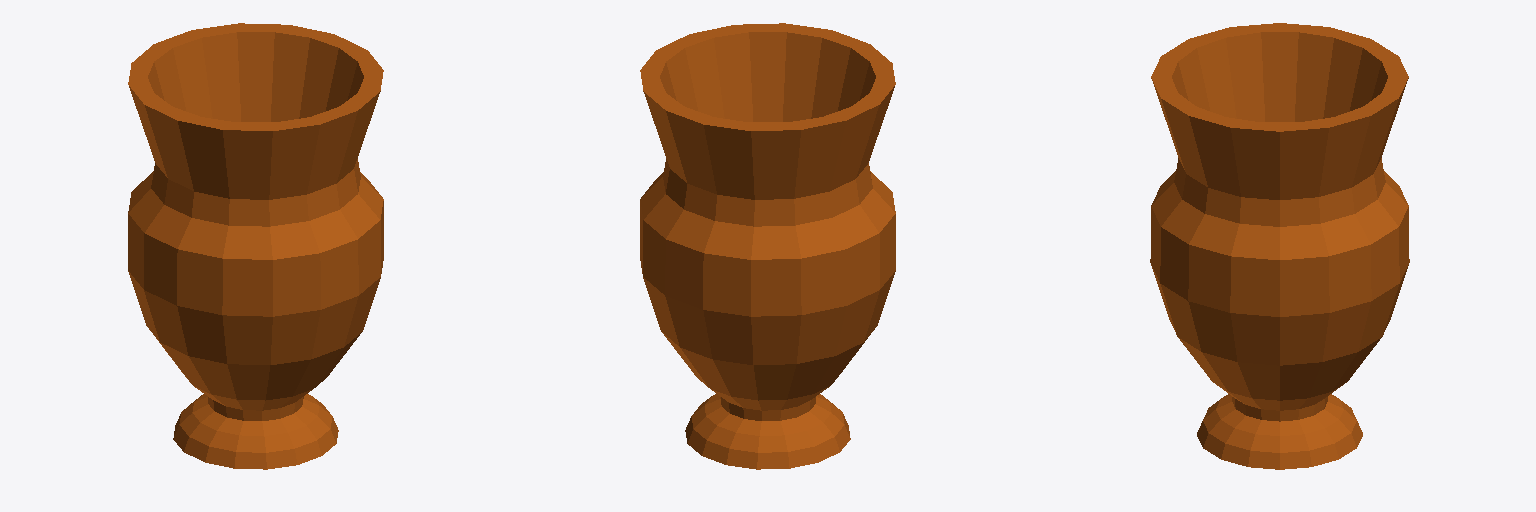
The model's file is greek_vase_cym_direct_average_normal.obj.
The picture shows the model from 3 angles: view 1: azimuth 30°, elevation 25°; view 2: azimuth 150°, elevation 25°; view 3: azimuth 270°, elevation 25°; orthographic projection.
Bounding box in the file's own units: 416 × 633 × 416.